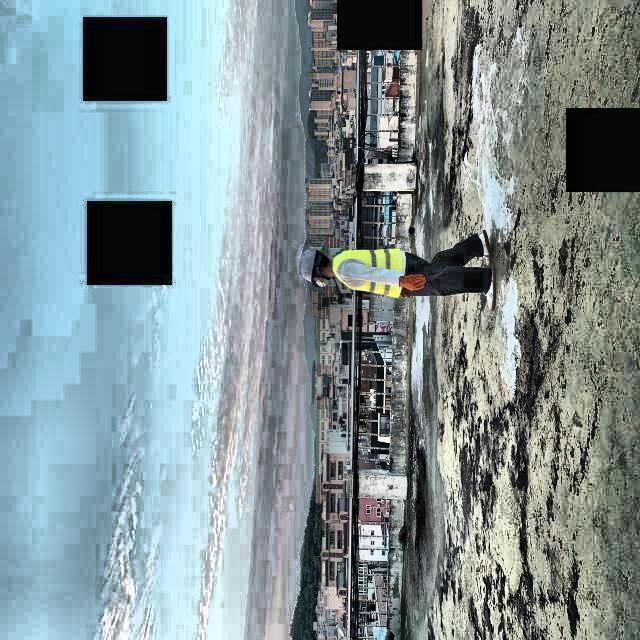safety_helmet: (297, 247, 319, 284)
safety_jacket: (331, 247, 406, 302)
